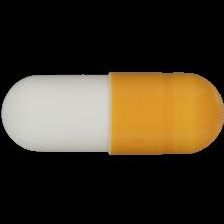68462-129: (0, 0, 224, 224)
